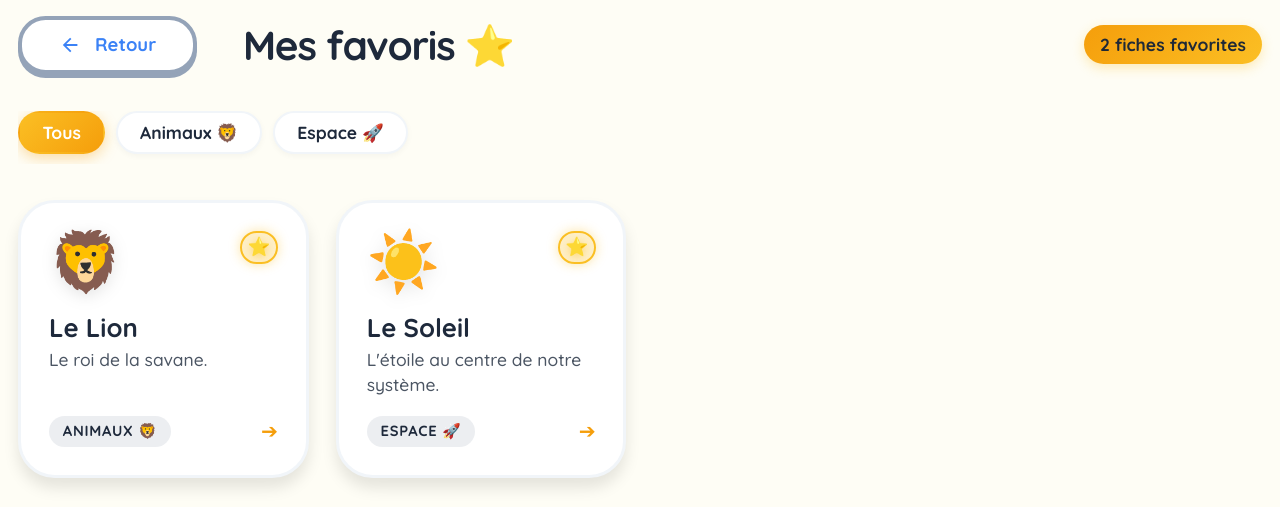
Test: FavoritesPage Component › filtre les fiches par catégorie
Expected: the tab "Tous" is shown, x1=18 y1=111 x2=105 y2=154
Expected: the tab "Espace 🚀" is shown, x1=273 y1=111 x2=408 y2=154
// Clic sur 'animaux'
Click the tab "Animaux 🦁". click: (189, 133)
box: x1=116 y1=111 x2=262 y2=154
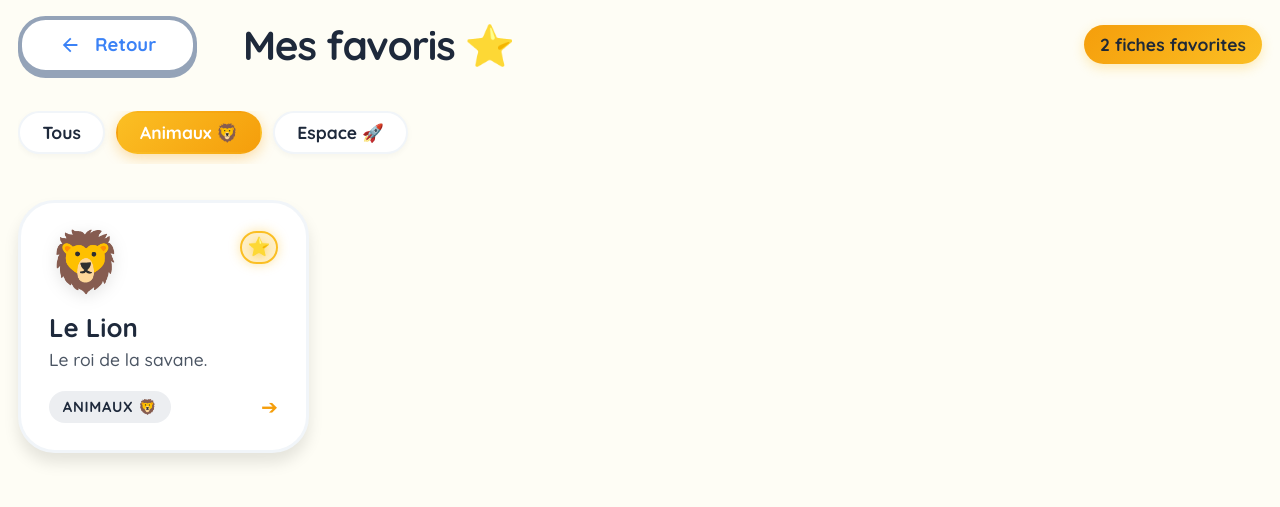
Expected: the button with test id "favorite-card-lion" is shown, x1=18 y1=200 x2=308 y2=453
Expected: the button with test id "favorite-card-soleil" is gone
// Clic sur 'espace'
Click the tab "Espace 🚀". click: (341, 133)
box: x1=273 y1=111 x2=408 y2=154
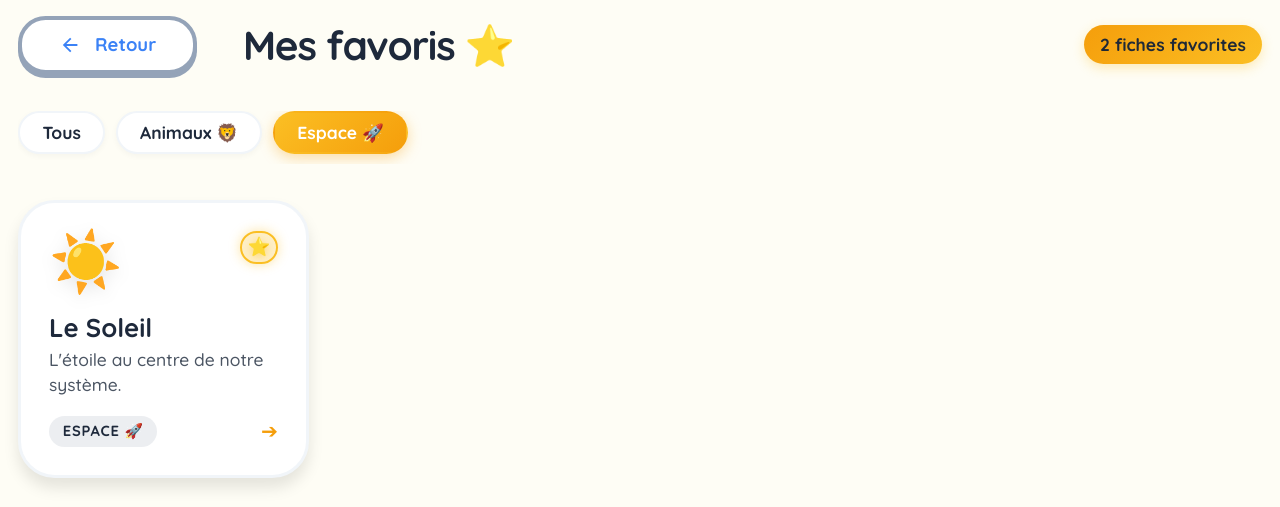
Expected: the button with test id "favorite-card-lion" is gone
Expected: the button with test id "favorite-card-soleil" is shown, x1=18 y1=200 x2=308 y2=478
// Clic sur 'Tous'
Click the tab "Tous". click: (62, 133)
box: x1=18 y1=111 x2=105 y2=154
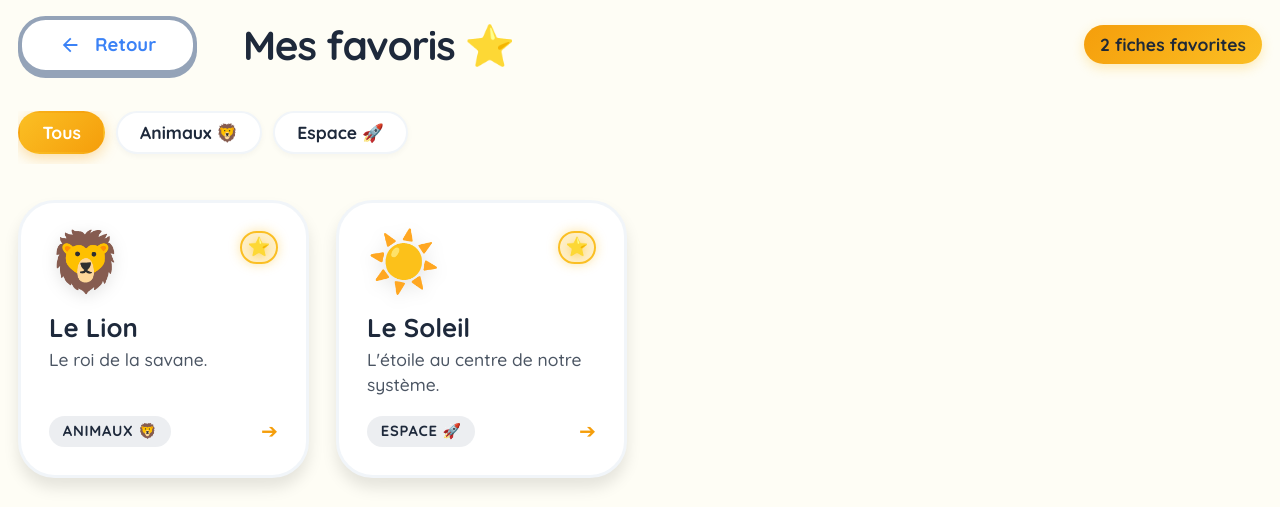
Expected: the button with test id "favorite-card-soleil" is shown, x1=336 y1=200 x2=626 y2=478
Expected: the button with test id "favorite-card-lion" is shown, x1=18 y1=200 x2=308 y2=478
